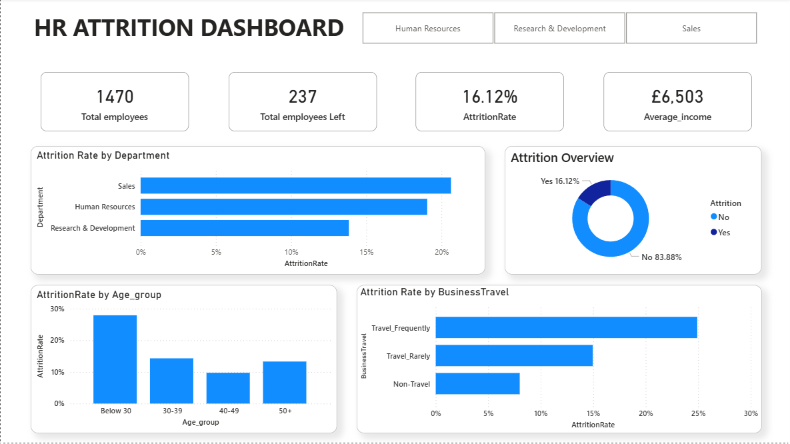

This screenshot's page, from the dashboard's own definition file:
{"tool":"powerbi","page":{"name":"Page 1","canvas":[1280,720],"ordinal":0},"visuals":[{"type":"slicer","fields":{"Values":["HRdata_attrition.Department"]},"box":[560,16,688,64],"z":0},{"type":"card","fields":{"Values":["Measure Table.Total employees"]},"box":[64,120,240,96],"z":0,"group":"g1"},{"type":"donutChart","title":"Attrition Overview","fields":{"Category":["HRdata_attrition.Attrition"],"Y":["Measure Table.Total employees"]},"box":[816,240,416,208],"z":0},{"type":"textbox","box":[48,16,528,64],"z":1000},{"type":"card","fields":{"Values":["Measure Table.Total employees Left"]},"box":[368,120,240,96],"z":1000,"group":"g1"},{"type":"clusteredBarChart","title":"Attrition Rate by Department","fields":{"Category":["HRdata_attrition.Department"],"Y":["Measure Table.AttritionRate"]},"box":[48,240,736,208],"z":1000},{"type":"group","id":"g1","title":"Cards","box":[64,120,1152,96],"z":2000},{"type":"card","fields":{"Values":["Measure Table.Average_income"]},"box":[976,120,240,96],"z":2000,"group":"g1"},{"type":"clusteredColumnChart","fields":{"Category":["HRdata_attrition.Age_group"],"Y":["Measure Table.AttritionRate"]},"box":[48,464,496,240],"z":2000},{"type":"card","fields":{"Values":["Measure Table.AttritionRate"]},"box":[672,120,240,96],"z":3000,"group":"g1"},{"type":"barChart","title":"Attrition Rate by BusinessTravel","fields":{"Category":["HRdata_attrition.BusinessTravel"],"Y":["Measure Table.AttritionRate"]},"box":[576,464,656,240],"z":3000}]}

Visuals, with their boxes in screenshot pixels (x1, y1, x2, y2), scaled from the page's 1280x720 canvas onto the 790x444 screenshot:
slicer - HRdata_attrition.Department: select_region(346, 10, 770, 49)
card - Measure Table.Total employees: select_region(40, 74, 188, 133)
"Attrition Overview" donutChart: select_region(504, 148, 760, 276)
textbox: select_region(30, 10, 356, 49)
card - Measure Table.Total employees Left: select_region(227, 74, 375, 133)
"Attrition Rate by Department" clusteredBarChart: select_region(30, 148, 484, 276)
"Cards" group: select_region(40, 74, 750, 133)
card - Measure Table.Average_income: select_region(602, 74, 750, 133)
clusteredColumnChart - HRdata_attrition.Age_group x Measure Table.AttritionRate: select_region(30, 286, 336, 434)
card - Measure Table.AttritionRate: select_region(415, 74, 563, 133)
"Attrition Rate by BusinessTravel" barChart: select_region(356, 286, 760, 434)
